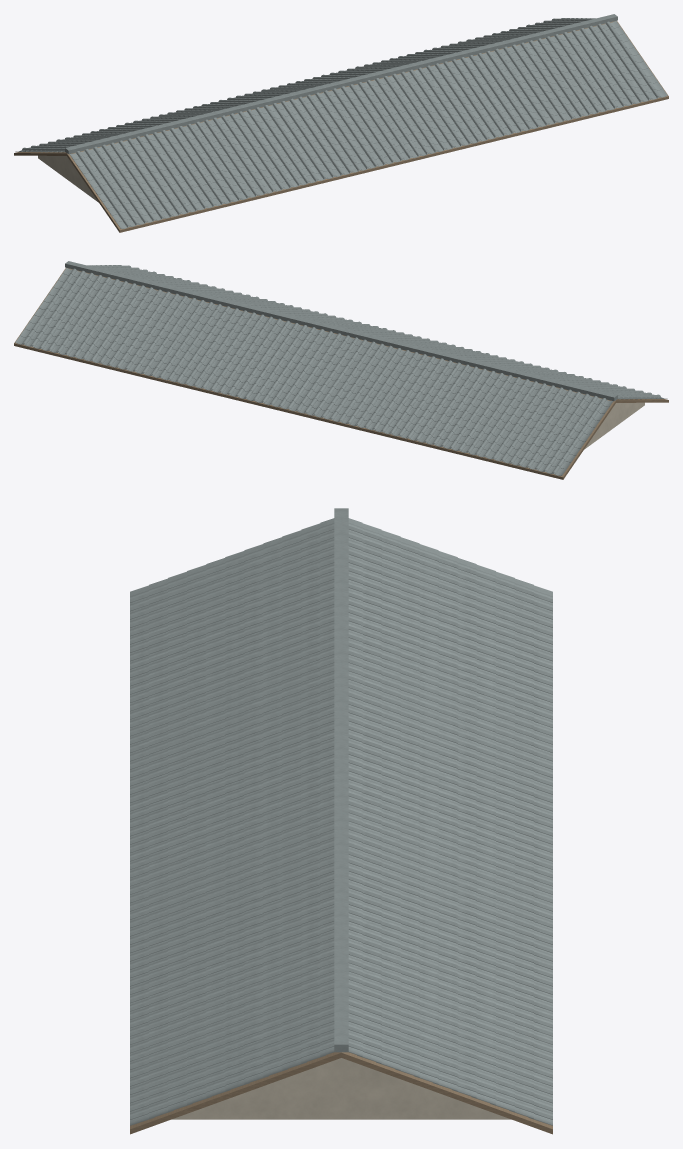
The model's file is TC03-main-roof-kit.glb.
3 views of the same model, one above another, from view 1: azimuth 30°, elevation 25°; view 2: azimuth 150°, elevation 25°; view 3: azimuth 270°, elevation 25° (orthographic). The views are drawn at different scales.
Visible parts, largest first — view 1: main_tile_shells_C, main_simple_ridge_C, main_C_substrate_-1, main_C_gable_infill_-1; view 2: main_tile_shells_C, main_simple_ridge_C, main_C_substrate_1, main_C_gable_infill_-1; view 3: main_tile_shells_C, main_C_gable_infill_1, main_simple_ridge_C, main_C_substrate_-1, main_C_substrate_1.
Part boxes in pixels (bbox=[...]): main_tile_shells_C: bbox=[15, 18, 667, 228]; main_simple_ridge_C: bbox=[65, 14, 617, 154]; main_C_substrate_-1: bbox=[67, 21, 668, 232]; main_C_gable_infill_-1: bbox=[38, 155, 98, 202]; main_tile_shells_C: bbox=[15, 265, 667, 475]; main_simple_ridge_C: bbox=[65, 261, 617, 401]; main_C_substrate_1: bbox=[14, 268, 615, 479]; main_C_gable_infill_-1: bbox=[584, 402, 644, 449]; main_tile_shells_C: bbox=[130, 518, 552, 1125]; main_C_gable_infill_1: bbox=[172, 1058, 510, 1119]; main_simple_ridge_C: bbox=[334, 508, 348, 1052]; main_C_substrate_-1: bbox=[130, 1052, 341, 1134]; main_C_substrate_1: bbox=[341, 1052, 552, 1134].
Size of the model in its own units: 18 by 1.41 by 6.
3 materials, 3 textured.
